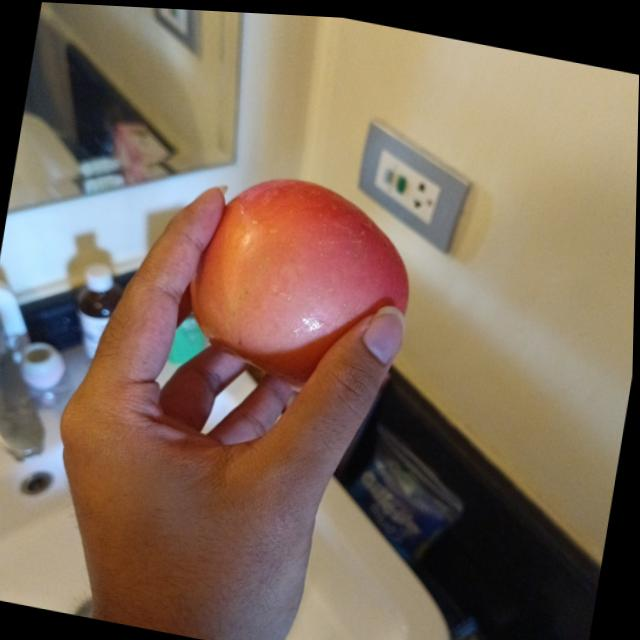apple: (179, 160, 424, 397)
